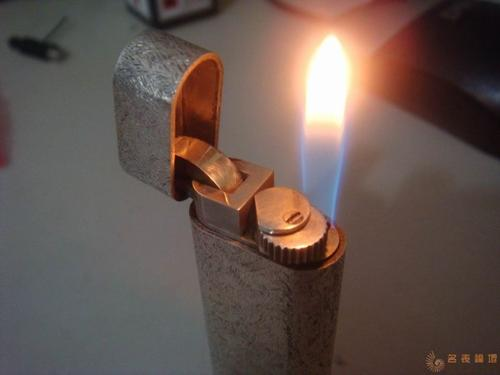fire: (291, 20, 365, 240)
